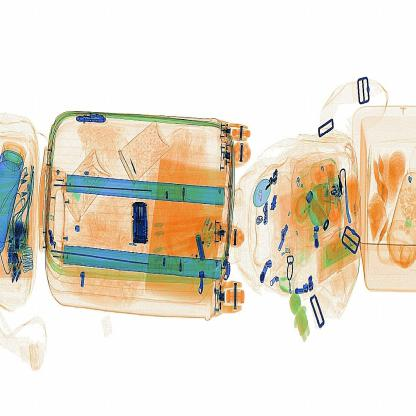scissors: (124, 197, 157, 256)
